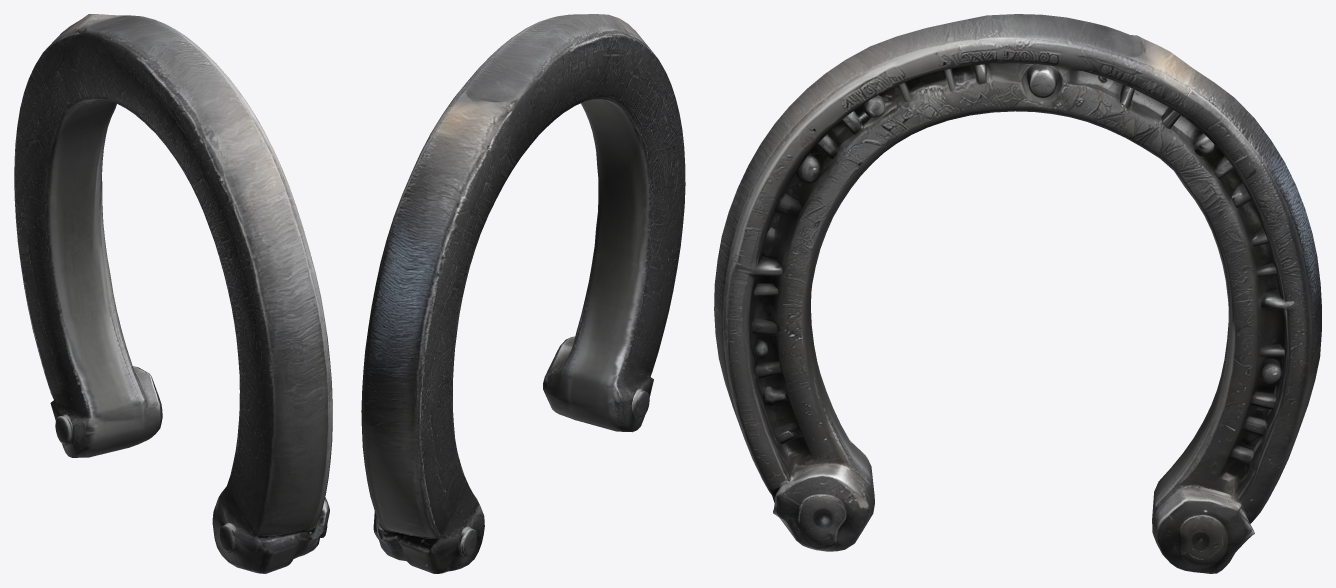
The model's file is artifact-wriggling-magnet.glb.
The picture shows the model from 3 angles, left to right: view 1: azimuth 30°, elevation 25°; view 2: azimuth 150°, elevation 25°; view 3: azimuth 270°, elevation 25°; orthographic projection. The views are drawn at different scales.
Visible parts, largest first — view 1: tripo_node_61877506-cbac-4488-ae5b-8ee2047cbc54; view 2: tripo_node_61877506-cbac-4488-ae5b-8ee2047cbc54; view 3: tripo_node_61877506-cbac-4488-ae5b-8ee2047cbc54.
Boxes of the visible parts, box(x1,y1,x2,y2) form: tripo_node_61877506-cbac-4488-ae5b-8ee2047cbc54: box(14, 14, 332, 573); tripo_node_61877506-cbac-4488-ae5b-8ee2047cbc54: box(361, 14, 685, 573); tripo_node_61877506-cbac-4488-ae5b-8ee2047cbc54: box(714, 14, 1321, 573).
Size of the model in its own units: 0.2124 by 0.9517 by 0.9995.
Materials: 1 (1 with a texture image).
